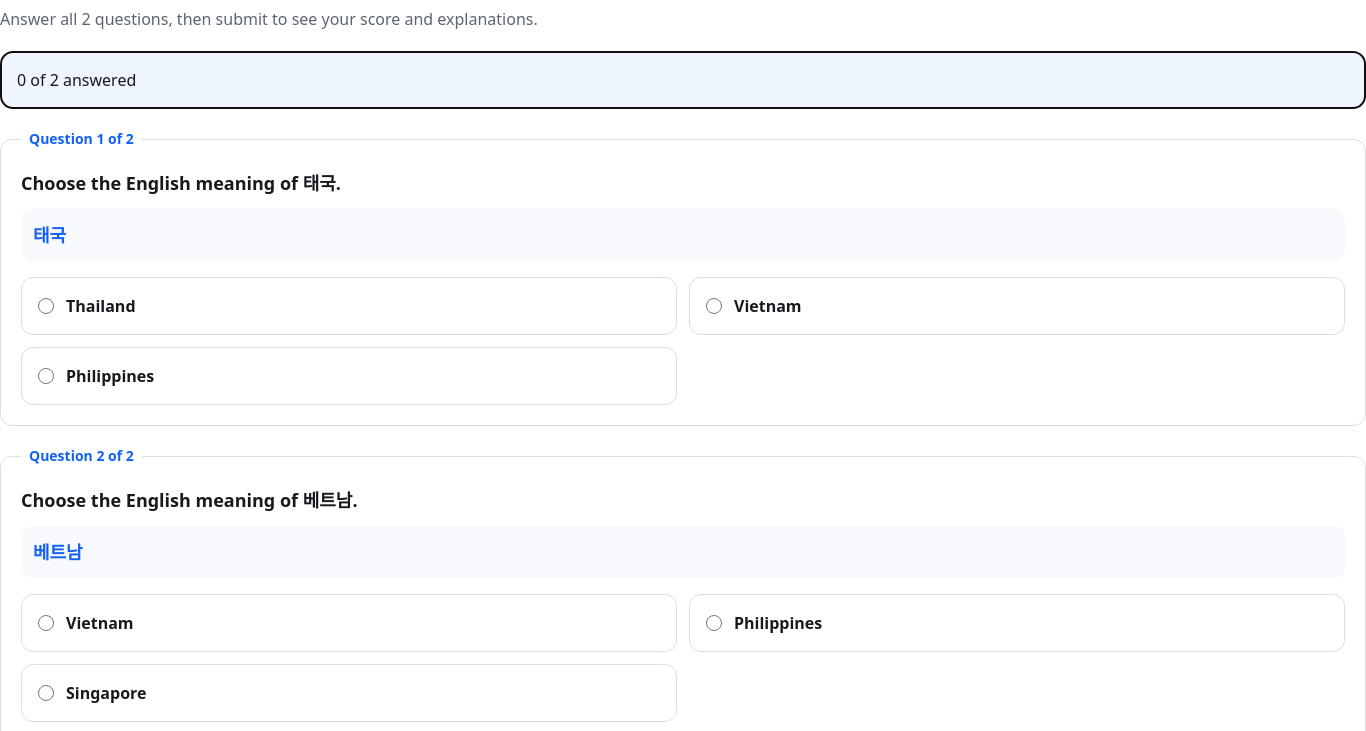
it: shows all questions and reveals results only after a complete submission
Expected: the text "Question 2 of 2" is shown, x1=21 y1=446 x2=142 y2=466
Click the radio button labelled "Thailand" at (46, 306), box x1=38 y1=298 x2=54 y2=314
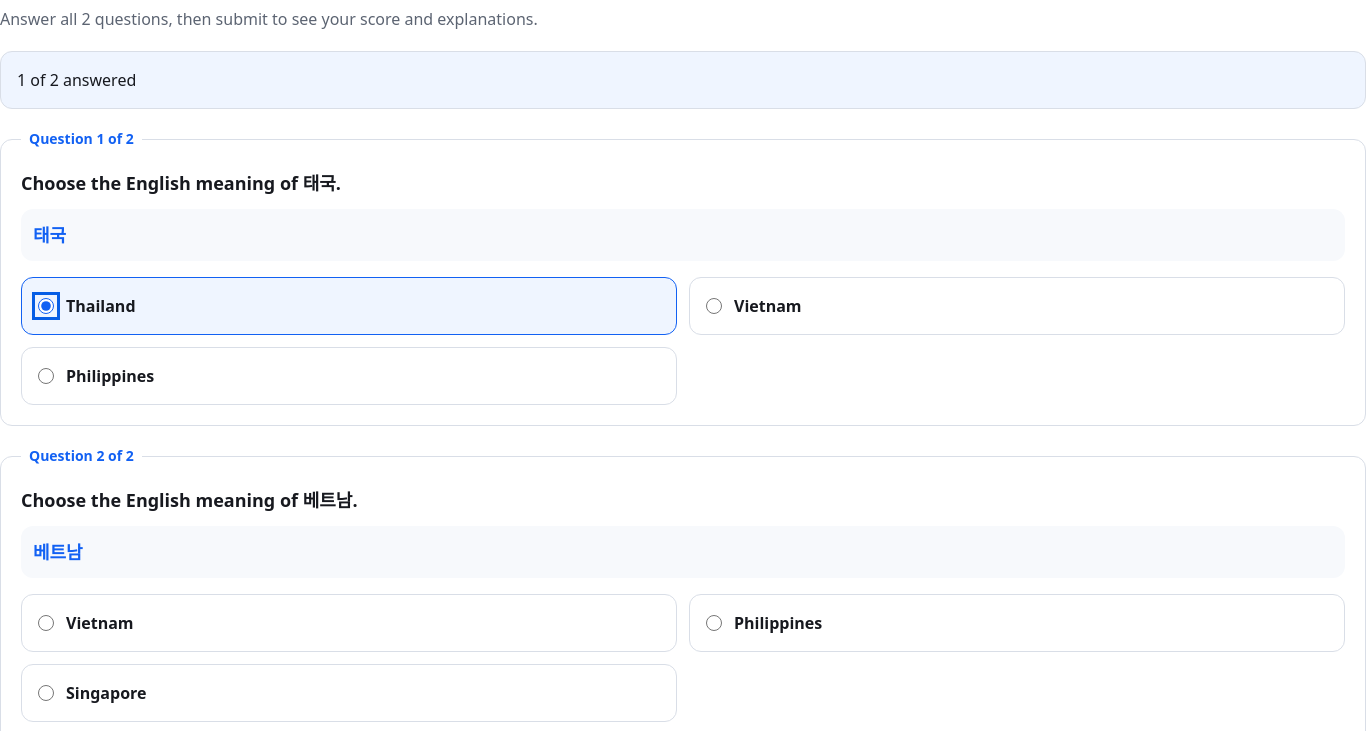
Click the 2nd radio button labelled "Vietnam" at (46, 623), box x1=38 y1=615 x2=54 y2=631
(page scrolled)
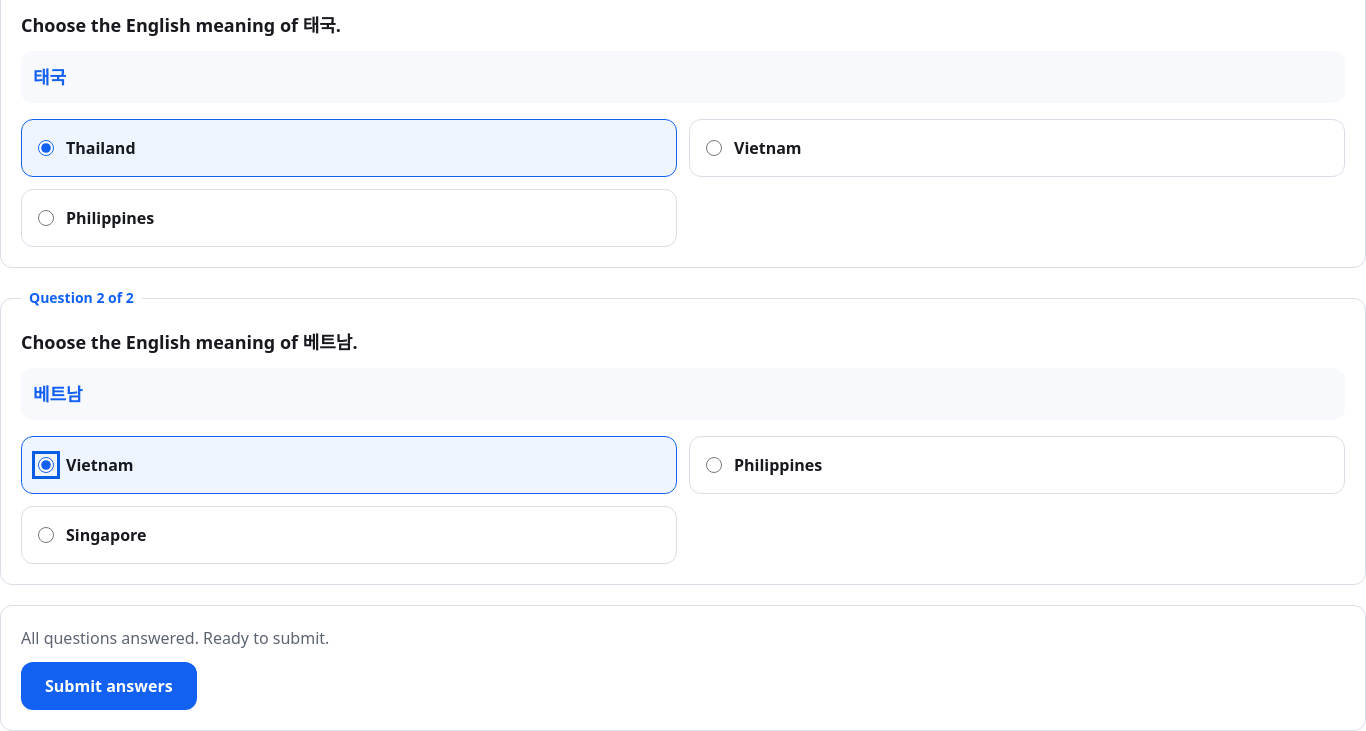
Expected: the text "Correct" is not shown
Click the button "Submit answers" at (109, 686), box x1=21 y1=662 x2=197 y2=710
(page scrolled)
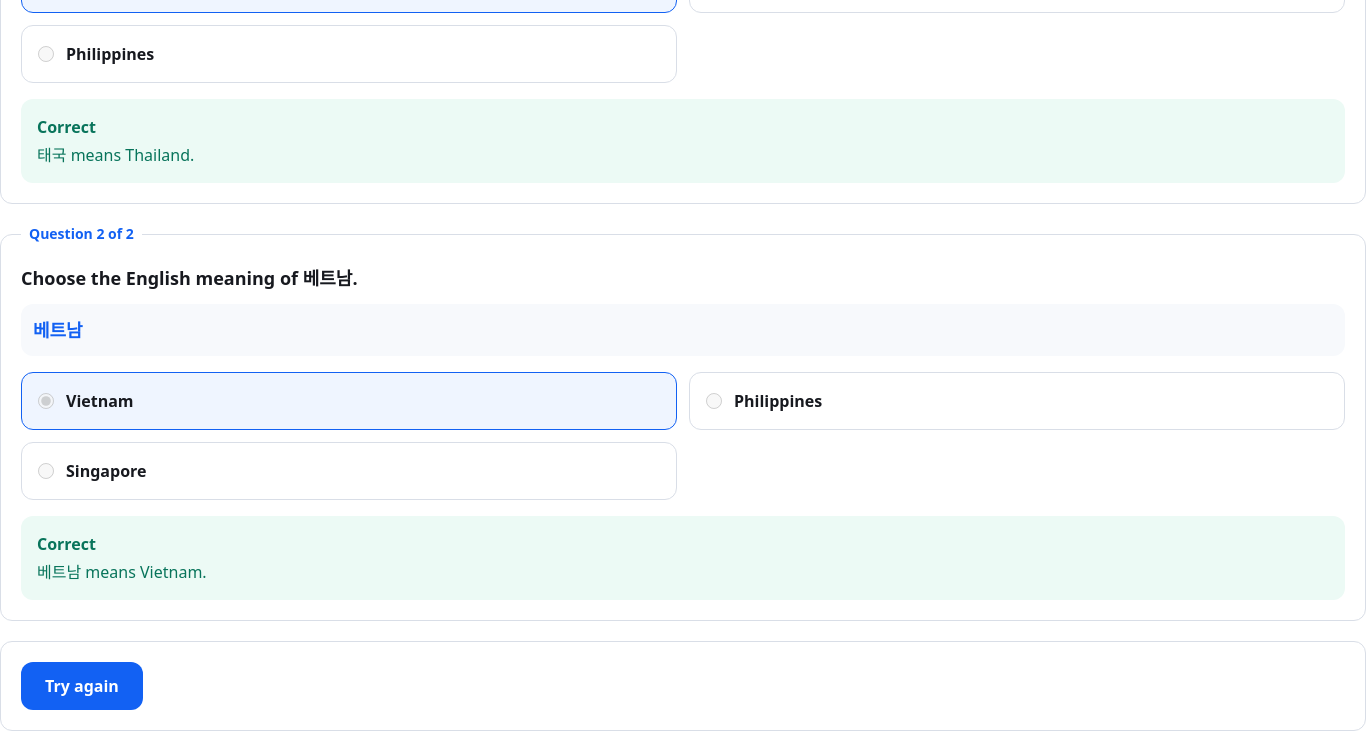
Expected: the text "Correct" is shown 2 times, x1=37 y1=116 x2=96 y2=138; x1=37 y1=533 x2=96 y2=555
Click the button "Try again" at (82, 686), box x1=21 y1=662 x2=143 y2=710
(page scrolled)
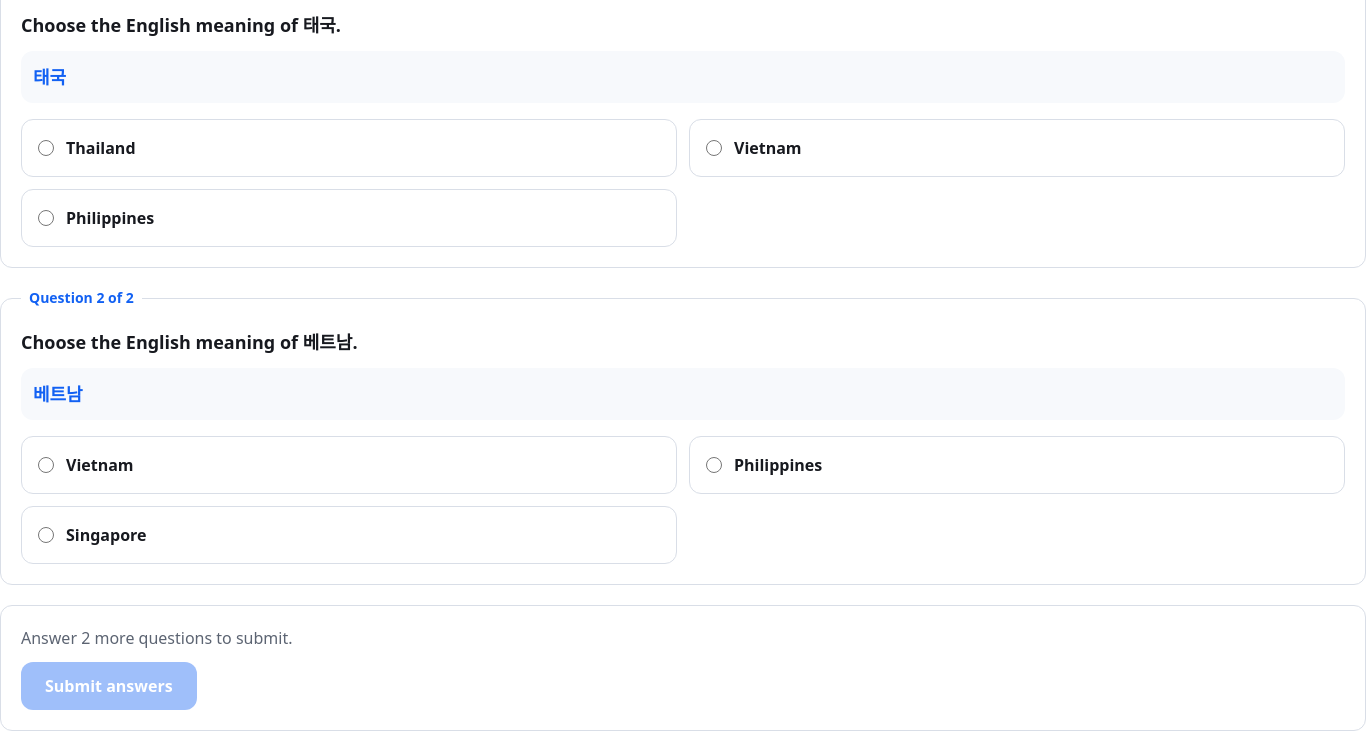
Expected: the text "Correct" is gone
Expected: the button "Submit answers" is disabled, x1=21 y1=662 x2=197 y2=710
